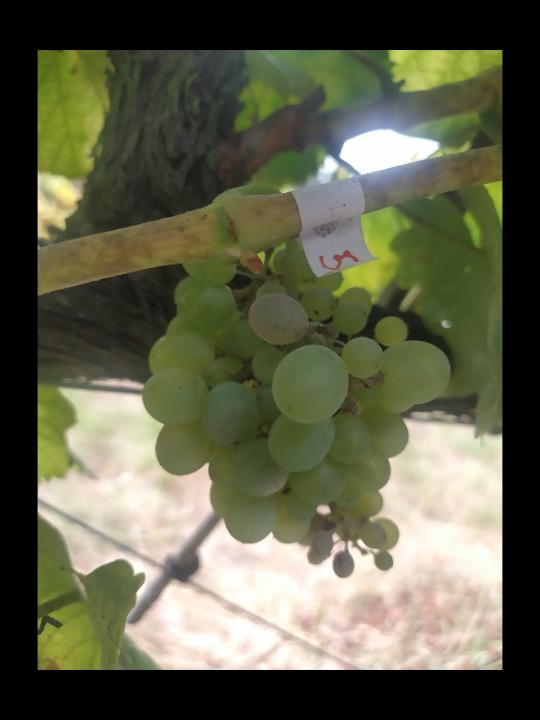grape: (138, 246, 454, 580)
